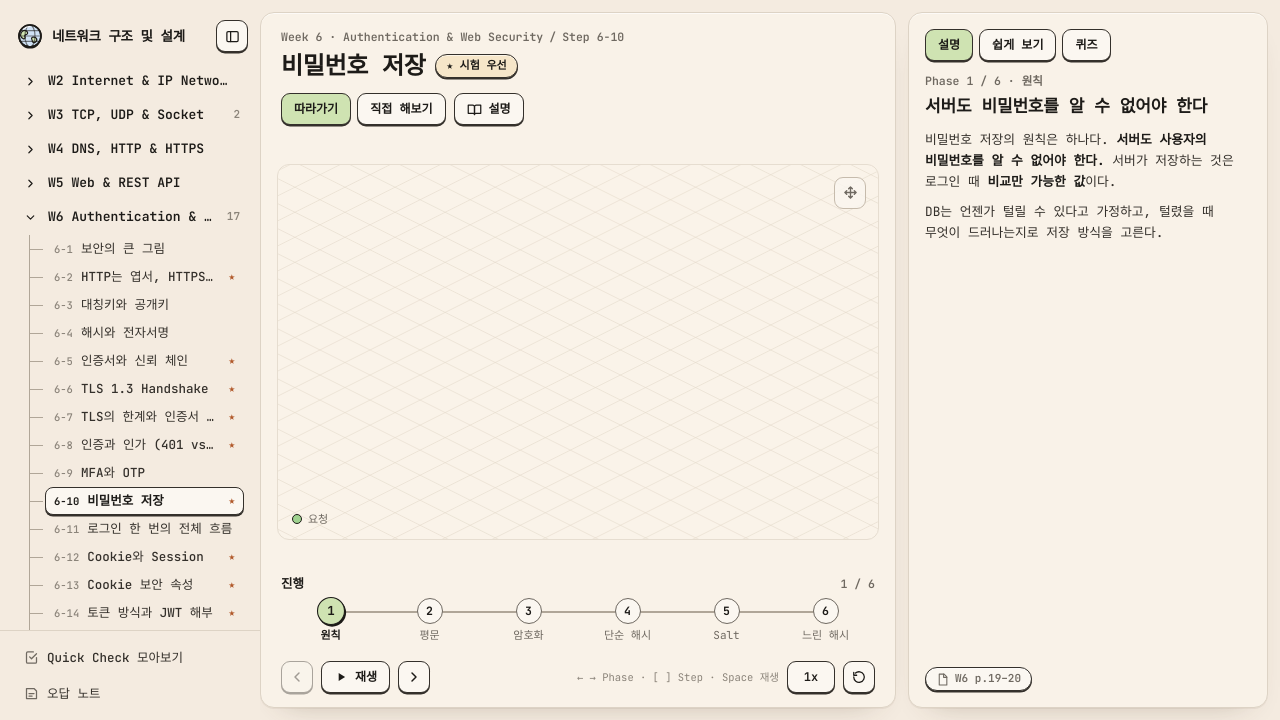
6-10 비밀번호 저장 › 직접 해보기: 같은 비밀번호면 SHA-256은 같고, Salt를 넣으면 달라진다
Click the button "직접 해보기" at (401, 109), box [357,93,446,125]
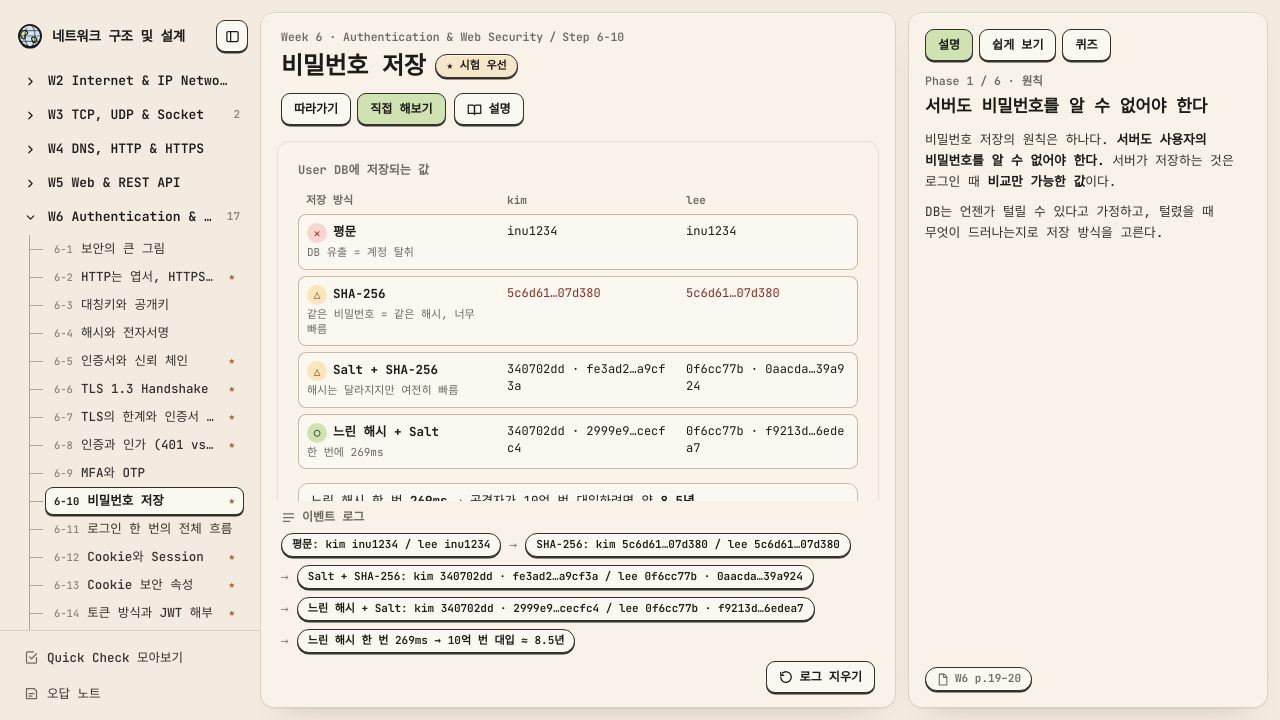
Check: the text "느린 해시 + Salt" is shown, box [333,423,439,440]
